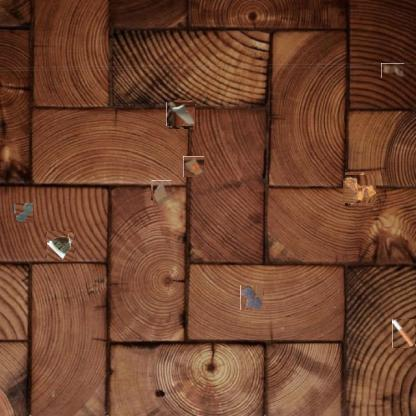dirty: (344, 174, 375, 204), (45, 231, 74, 261), (168, 101, 194, 128), (392, 318, 415, 348), (152, 180, 172, 205), (183, 156, 204, 177), (381, 63, 404, 78)
liquid: (240, 285, 264, 310), (15, 204, 34, 222)
